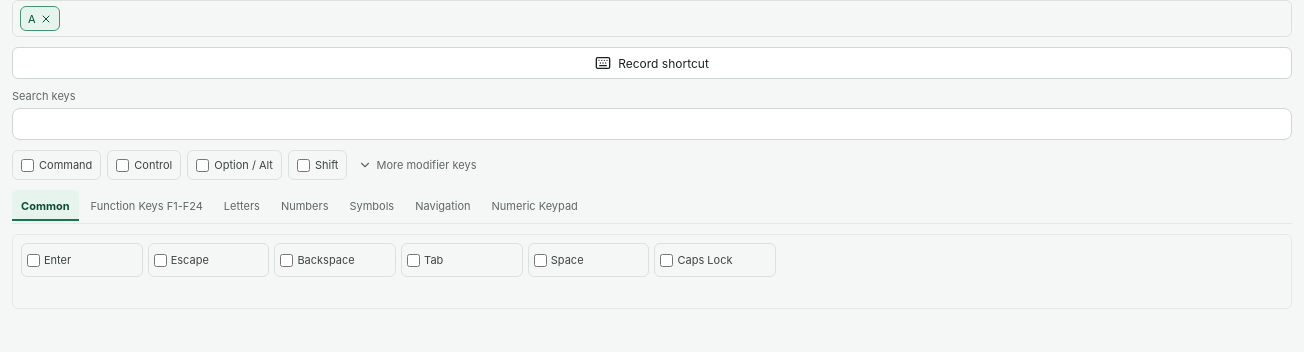
aborts an unsupported recording without replacing the previous chord
Step 1. Click the button "Record shortcut" → coordinates (652, 63), box [12,47,1292,79]
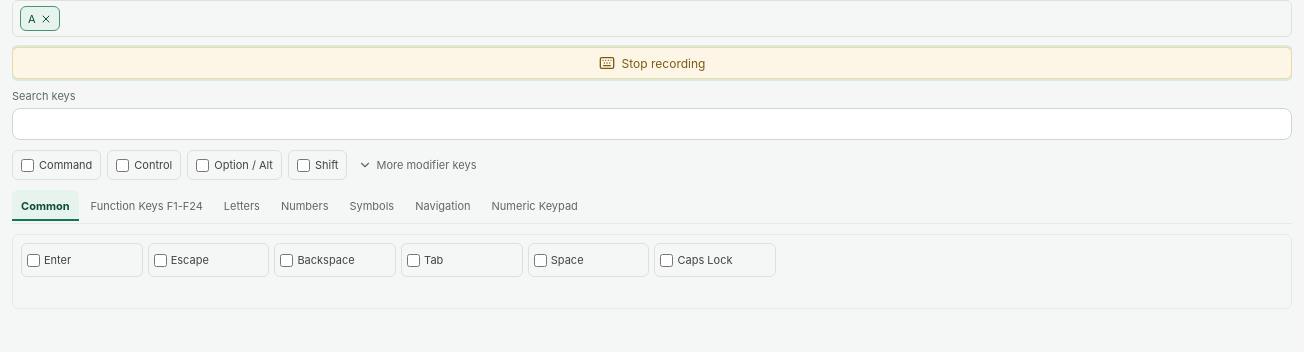
Step 2. Press ろ
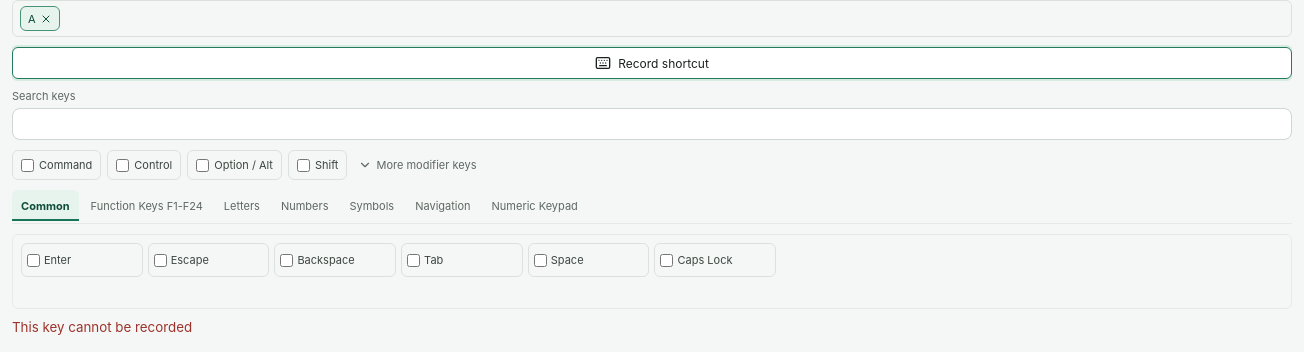
Check: the text "This key cannot be recorded" is shown, box [12,319,192,335]
Check: the button "Record shortcut" is shown, box [12,47,1292,79]
